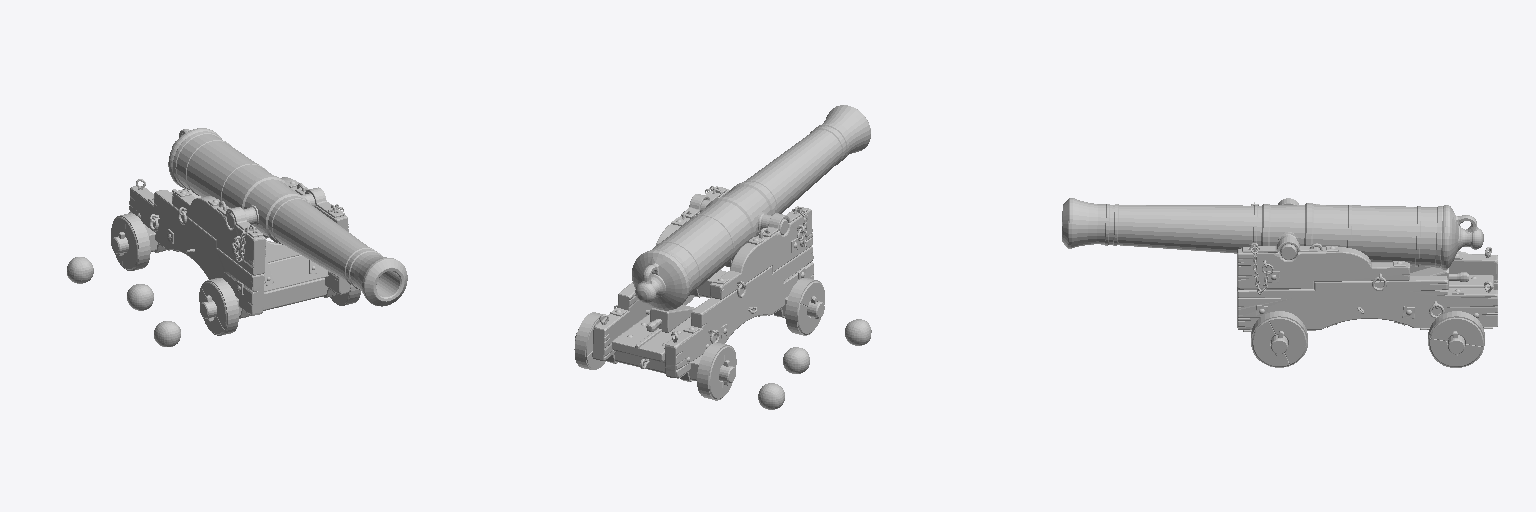
File: cannon.obj
3 views of the same model, side by side, from view 1: azimuth 30°, elevation 25°; view 2: azimuth 150°, elevation 25°; view 3: azimuth 270°, elevation 25° (orthographic).
Parts seen in each view (by area): view 1: cannon_01_frame, cannon_01_barrel, cannon_01_wheel_02, cannon_01_wheel_01, cannon_01_ball_02, cannon_01_ball_03, cannon_01_ball_01; view 2: cannon_01_frame, cannon_01_barrel, cannon_01_wheel_01, cannon_01_wheel_02, cannon_01_wheel_04, cannon_01_pusherblock, cannon_01_ball_02, cannon_01_ball_03, cannon_01_ball_01; view 3: cannon_01_barrel, cannon_01_frame, cannon_01_wheel_04, cannon_01_wheel_03.
Part boxes in pixels (bbox=[...]): cannon_01_frame: bbox=[111, 177, 350, 321]; cannon_01_barrel: bbox=[168, 128, 407, 306]; cannon_01_wheel_02: bbox=[111, 213, 150, 270]; cannon_01_wheel_01: bbox=[199, 278, 238, 335]; cannon_01_ball_02: bbox=[127, 284, 153, 310]; cannon_01_ball_03: bbox=[67, 257, 93, 283]; cannon_01_ball_01: bbox=[154, 321, 180, 346]; cannon_01_frame: bbox=[575, 186, 824, 385]; cannon_01_barrel: bbox=[632, 105, 870, 310]; cannon_01_wheel_01: bbox=[785, 278, 824, 335]; cannon_01_wheel_02: bbox=[697, 342, 736, 400]; cannon_01_wheel_04: bbox=[574, 312, 605, 369]; cannon_01_pusherblock: bbox=[646, 305, 694, 332]; cannon_01_ball_02: bbox=[783, 347, 809, 373]; cannon_01_ball_03: bbox=[758, 383, 784, 409]; cannon_01_ball_01: bbox=[845, 319, 871, 345]; cannon_01_barrel: bbox=[1062, 198, 1483, 269]; cannon_01_frame: bbox=[1237, 198, 1497, 355]; cannon_01_wheel_04: bbox=[1428, 311, 1484, 367]; cannon_01_wheel_03: bbox=[1251, 311, 1307, 367].
Size of the model in its own units: 1.23 by 0.7869 by 2.3.